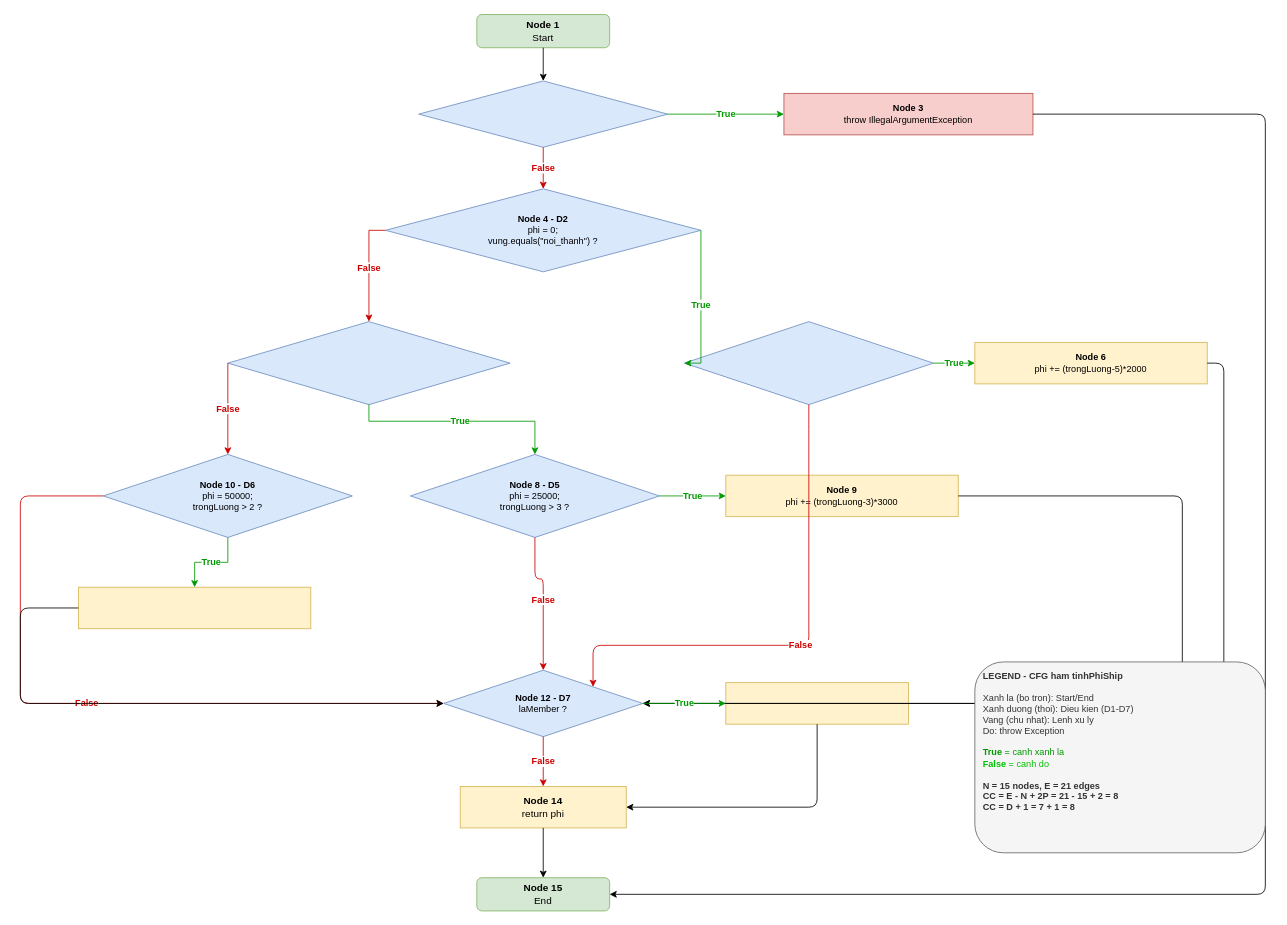
The diagram is 1287 pixels wide and 925 high, and some of its shapes have lost their labels. The shapes that lost their labels are listed below. From the top down, each one's centre as x and y in pixels, then its label:
pixel 543 113: Node 2 - D1 trongLuong <= 0 ?
pixel 368 363: Node 7 - D4 vung.equals("ngoai_thanh") ?
pixel 808 363: Node 5 - D3 phi = 15000; trongLuong > 5 ?
pixel 194 607: Node 11 phi += (trongLuong-2)*5000
pixel 816 703: Node 13 phi = phi * 0.9
